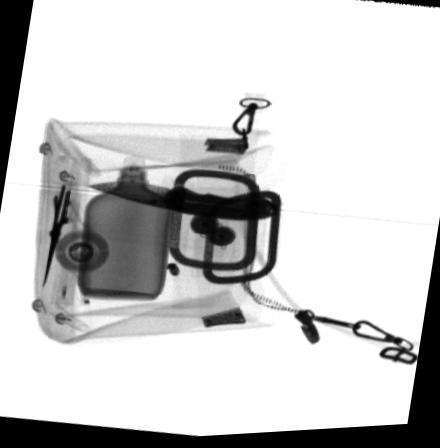Knife: (87, 182, 280, 223)
Scissors: (40, 174, 94, 286)
